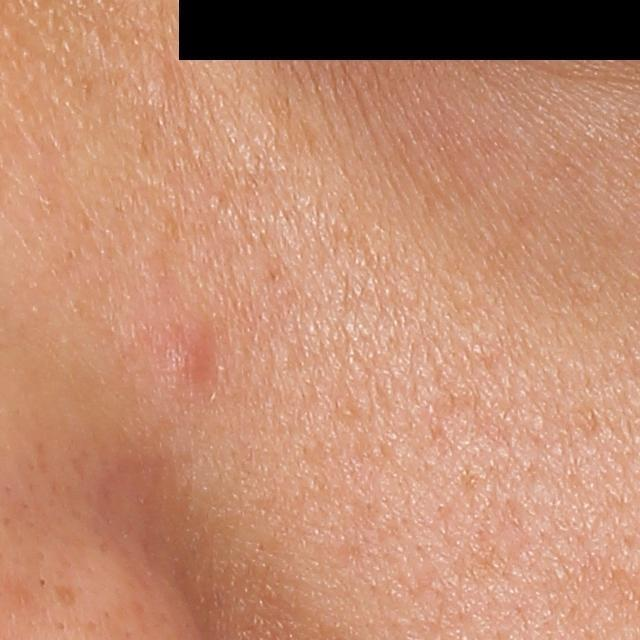papule: (145, 310, 218, 395)
